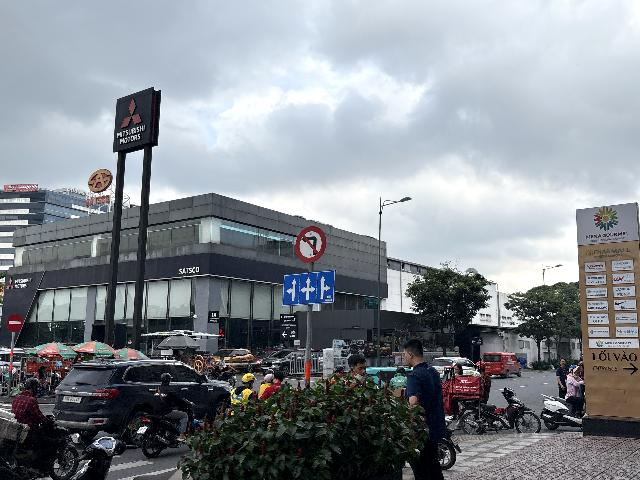cam-di-nguoc-chieu: (6, 312, 24, 333)
cam-re-trai: (295, 226, 327, 263)
